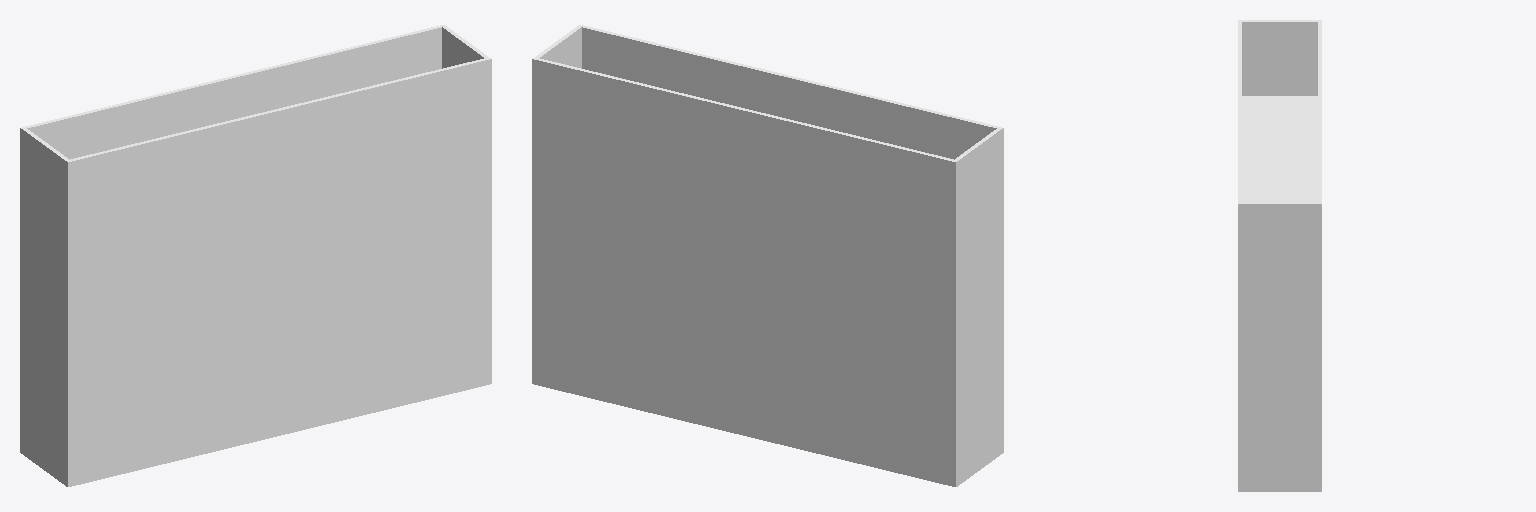
URDF robot description (Officedesk_F):
<?xml version="1.0" encoding="utf-8"?>
<!-- This URDF was automatically created by SolidWorks to URDF Exporter! Originally created by [author] ([email redacted]) 
     Commit Version: 1.5.1-0-g916b5db  Build Version: 1.5.7152.31018
     For more information, please see http://wiki.ros.org/sw_urdf_exporter -->
<robot
  name="Officedesk_F">
  <link
    name="Officedesk_F">
    <inertial>
      <origin
        xyz="5.3118E-17 2.7259E-17 0.43189"
        rpy="0 0 0" />
      <mass
        value="371.48" />
      <inertia
        ixx="27.128"
        ixy="-2.1983E-18"
        ixz="-8.0767E-15"
        iyy="94.826"
        iyz="-7.3514E-16"
        izz="73.198" />
    </inertial>
    <visual>
      <origin
        xyz="0 0 0"
        rpy="0 0 0" />
      <geometry>
        <mesh
          filename="package://Officedesk_F/meshes/Officedesk_F.STL" />
      </geometry>
      <material
        name="">
        <color
          rgba="1 1 1 1" />
        <texture
          filename="package://Officedesk_F/textures/" />
      </material>
    </visual>
    <collision>
      <origin
        xyz="0 0 0"
        rpy="0 0 0" />
      <geometry>
        <mesh
          filename="package://Officedesk_F/meshes/Officedesk_F.STL" />
      </geometry>
    </collision>
  </link>
</robot>

--- Render facts (derived) ---
3 views of the same robot in one strip: view 1: azimuth 30°, elevation 25°; view 2: azimuth 150°, elevation 25°; view 3: azimuth 270°, elevation 25° (orthographic).
Robot: Officedesk_F — 1 links, 0 joints (none); root link Officedesk_F; default pose: every joint at zero.
Links seen in each view (by area): view 1: Officedesk_F; view 2: Officedesk_F; view 3: Officedesk_F.
Boxes of the visible links, x1=… form: Officedesk_F: x1=20, y1=25, x2=491, y2=486; Officedesk_F: x1=532, y1=25, x2=1003, y2=486; Officedesk_F: x1=1238, y1=20, x2=1321, y2=491.
Bounding box of the posed robot: 1.5 × 0.29 × 1.1 m (x, y, z).
1 mesh visuals loaded from 1 distinct referenced files (1 binary STL).